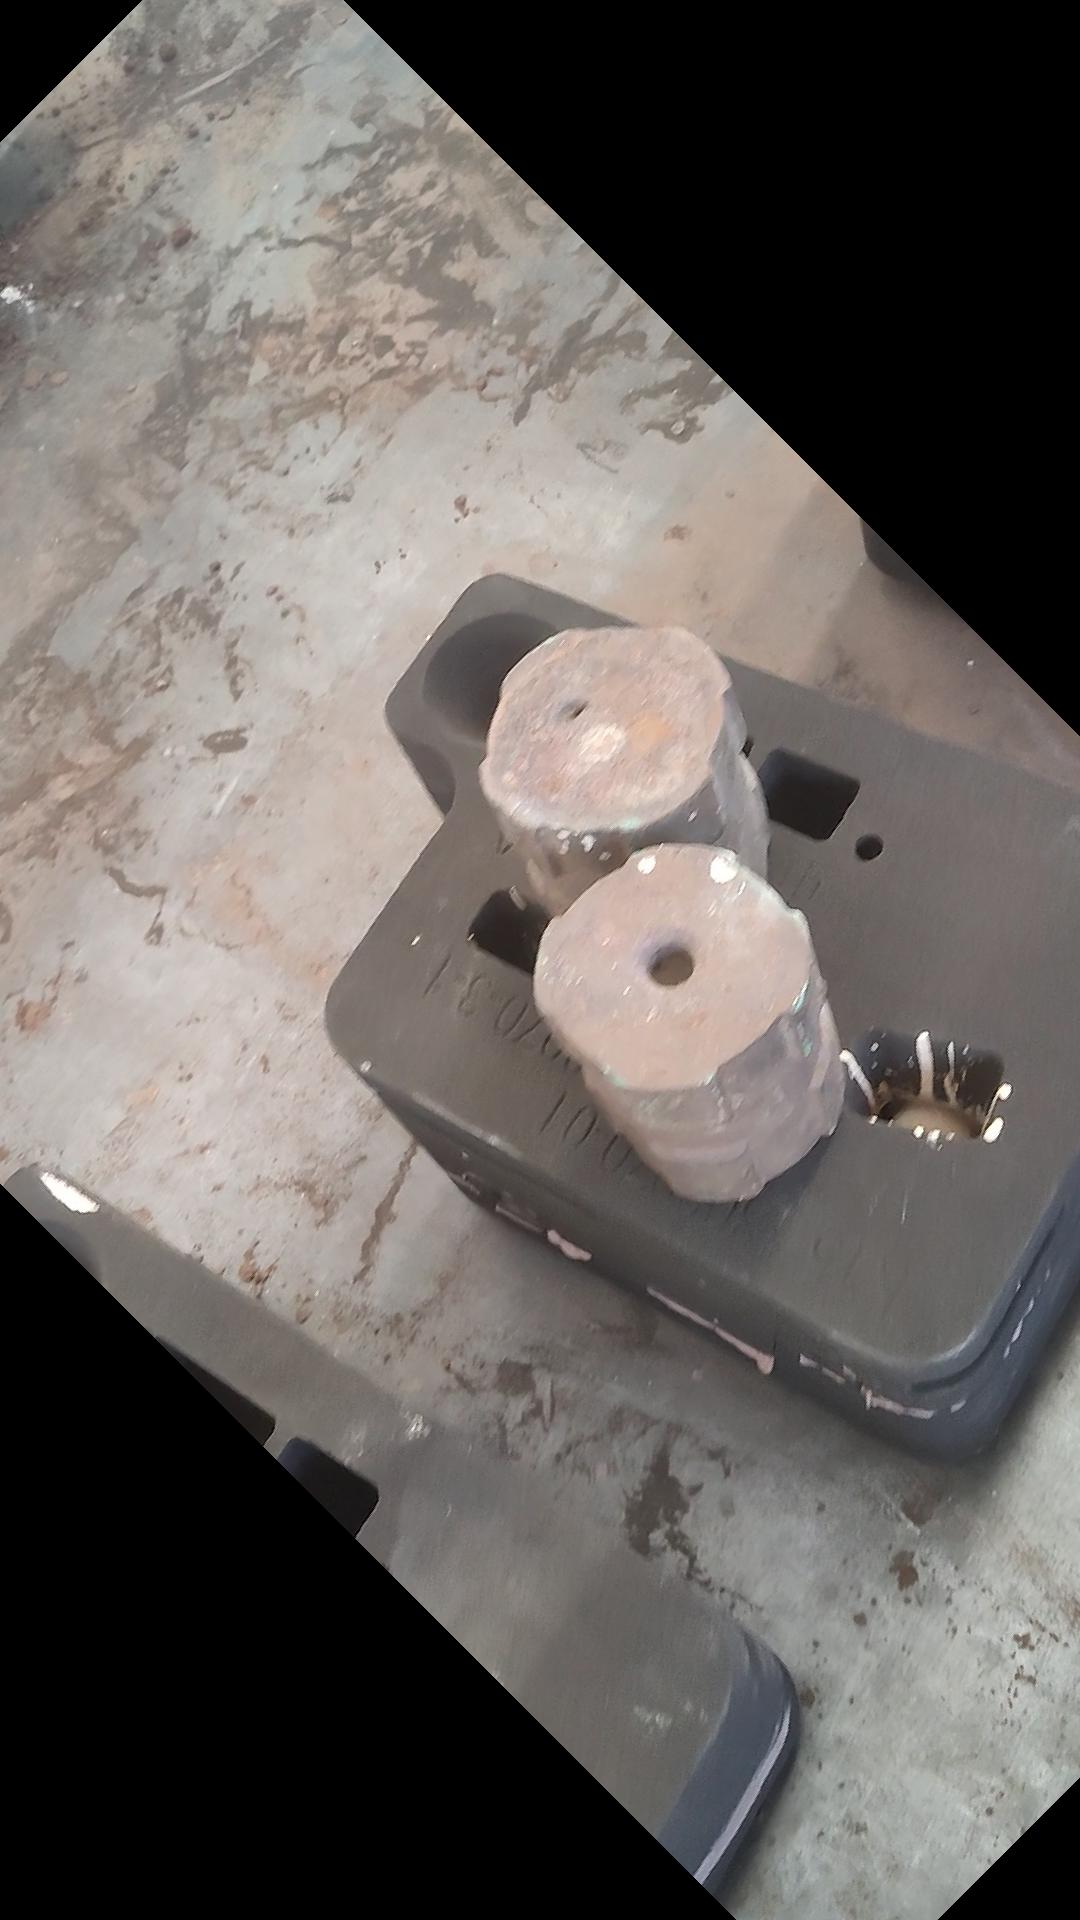pouring hole: (423, 611, 571, 750), (17, 1216, 104, 1308)
